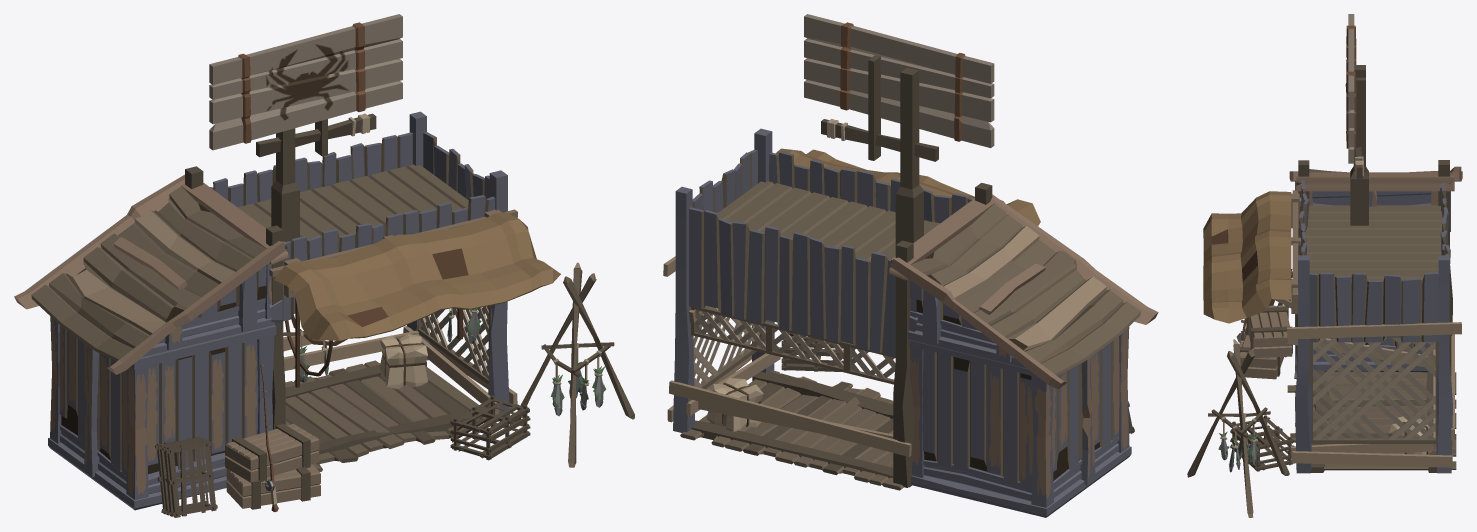
File: SM_Bld_Shop_03.fbx
3 renders of one model, left to right at view 1: azimuth 30°, elevation 25°; view 2: azimuth 150°, elevation 25°; view 3: azimuth 270°, elevation 25°, orthographic. The views are drawn at different scales.
Visible parts, largest first — view 1: SM_Bld_Shop_03; view 2: SM_Bld_Shop_03; view 3: SM_Bld_Shop_03.
Boxes of the visible parts, bbox=[...] form: SM_Bld_Shop_03: bbox=[14, 14, 634, 517]; SM_Bld_Shop_03: bbox=[663, 14, 1158, 517]; SM_Bld_Shop_03: bbox=[1187, 14, 1462, 517].
Size of the model in its own units: 8.73 by 6.83 by 4.78.
